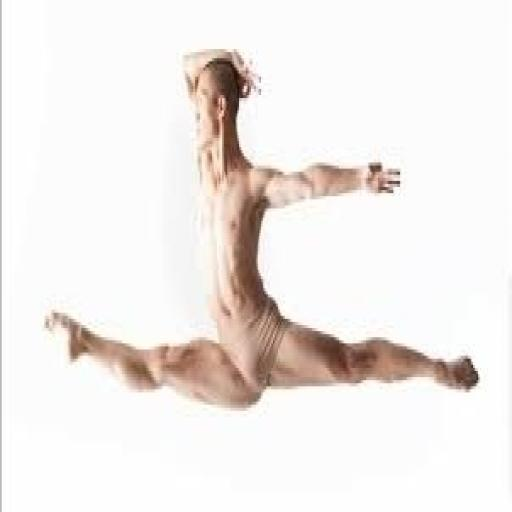dancing: (42, 43, 480, 414)
